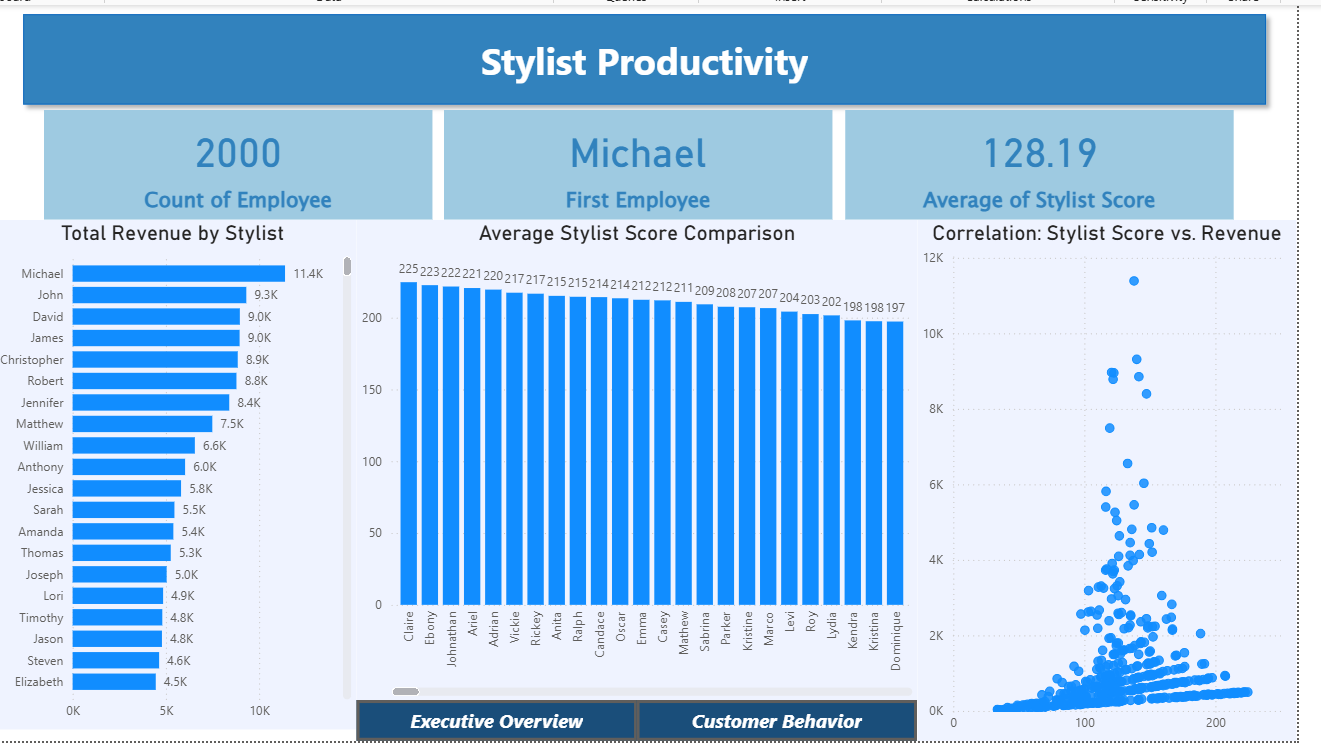

The dashboard page shown, as its layout file describes it:
{"tool":"powerbi","page":{"name":"Stylist Productivity","canvas":[1280,720],"ordinal":1},"visuals":[{"type":"clusteredBarChart","title":"Total Revenue by Stylist","fields":{"Category":["Sheet1.Employee"],"Y":["Sum(Sheet1.Revenue)"]},"box":[0,209.9,359.5,498.1],"z":0},{"type":"clusteredColumnChart","title":"Average Stylist Score Comparison","fields":{"Category":["Sheet1.Employee"],"Y":["Avg(Sheet1.Stylist Score)"]},"box":[359.5,209.9,548.9,470.7],"z":1000},{"type":"scatterChart","title":"Correlation: Stylist Score vs. Revenue","fields":{"X":["Avg(Sheet1.Stylist Score)"],"Y":["Sum(Sheet1.Revenue)"],"Category":["Sheet1.Employee"]},"box":[908.4,209.9,370.5,510.5],"z":2000},{"type":"actionButton","box":[359.4,680.1,274.5,39.9],"z":3000},{"type":"actionButton","box":[633.9,680.1,274.5,39.9],"z":4000},{"type":"shape","box":[24.5,0,1233.8,106.4],"z":5000},{"type":"card","fields":{"Values":["CountNonNull(Sheet1.Employee)"]},"box":[53.5,102.9,380.1,107],"z":6000},{"type":"card","fields":{"Values":["Avg(Sheet1.Stylist Score)"]},"box":[837.1,102.9,380.1,107],"z":7000},{"type":"card","fields":{"Values":["Min(Sheet1.Employee)"]},"box":[444.6,102.9,380.1,107],"z":8000}]}

Visuals, with their boxes on the page's 1280x720 design canvas (x1, y1, x2, y2). These are canvas units, not pixel positions in the 1321x746 screenshot, which may show the page scaled, cropped or inside an application window:
"Total Revenue by Stylist" clusteredBarChart: Rect(0, 210, 360, 708)
"Average Stylist Score Comparison" clusteredColumnChart: Rect(360, 210, 908, 681)
"Correlation: Stylist Score vs. Revenue" scatterChart: Rect(908, 210, 1279, 720)
actionButton: Rect(359, 680, 634, 720)
actionButton: Rect(634, 680, 908, 720)
shape: Rect(24, 0, 1258, 106)
card - CountNonNull(Sheet1.Employee): Rect(54, 103, 434, 210)
card - Avg(Sheet1.Stylist Score): Rect(837, 103, 1217, 210)
card - Min(Sheet1.Employee): Rect(445, 103, 825, 210)
